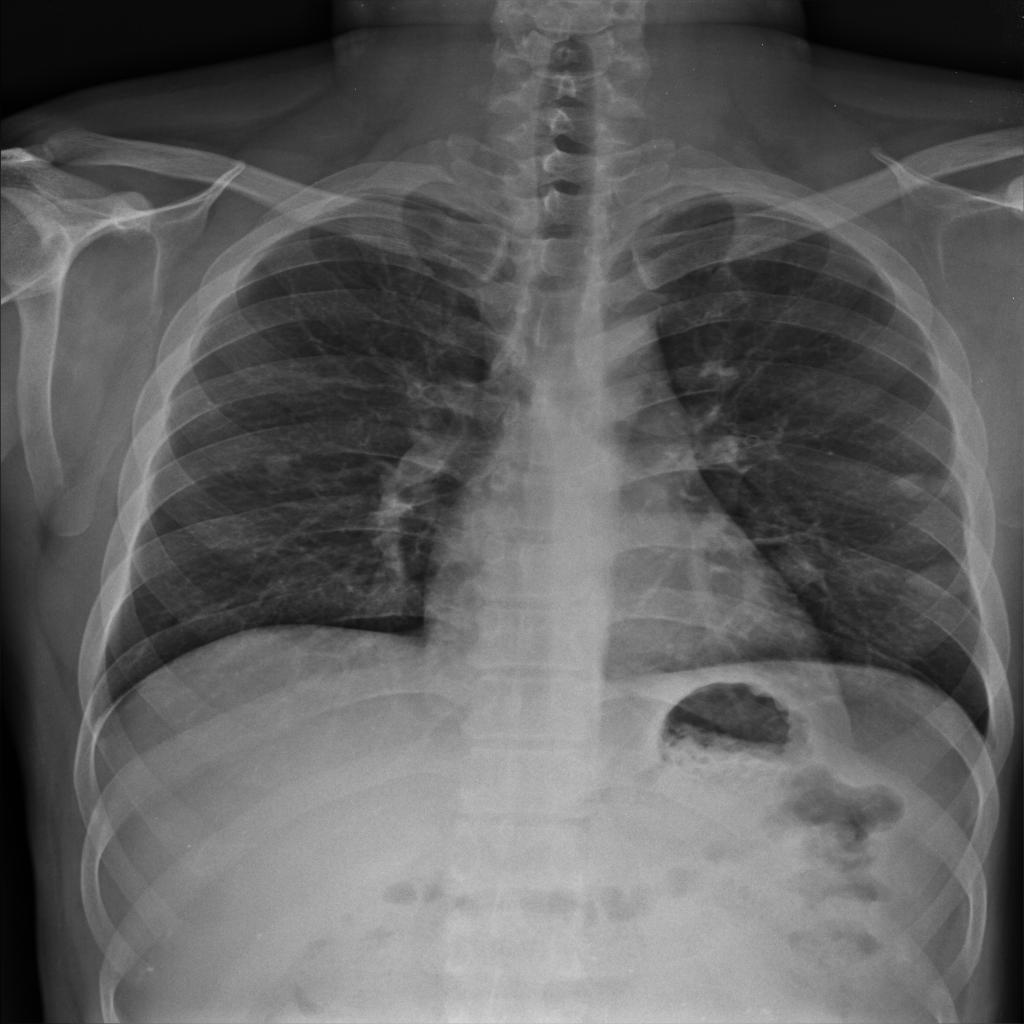Nodule: (901, 558, 972, 595), (772, 543, 830, 585), (892, 470, 954, 503)
